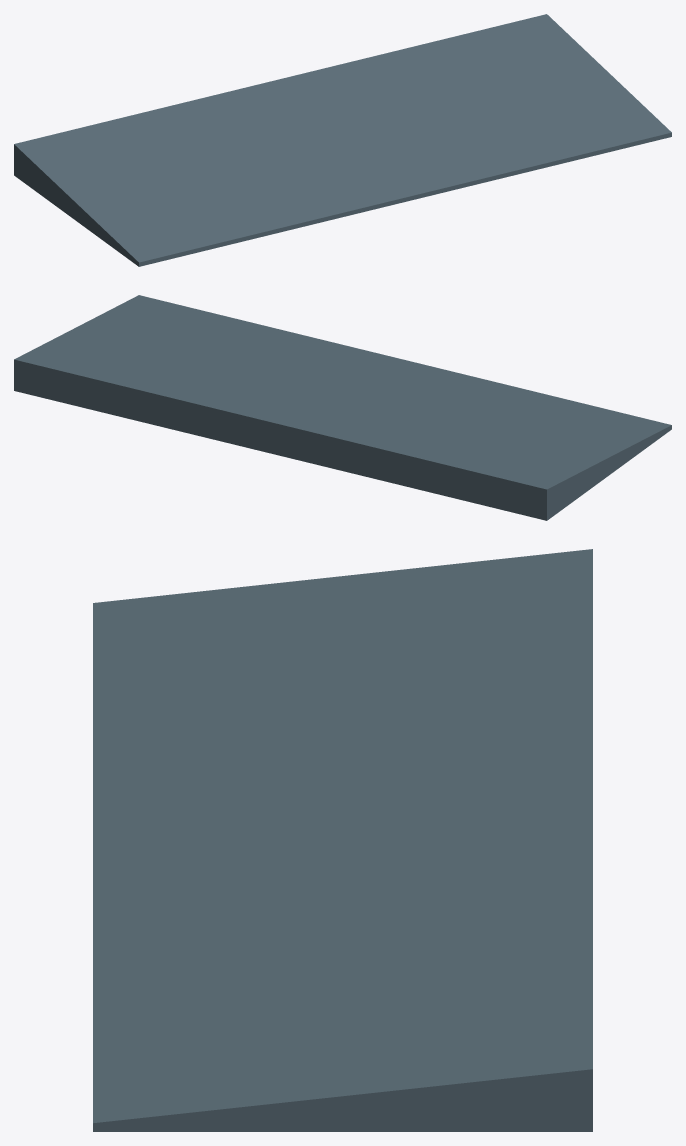
Rendered from survey-ramp.glb.
3 views of the same model, one above another, from view 1: azimuth 30°, elevation 25°; view 2: azimuth 150°, elevation 25°; view 3: azimuth 270°, elevation 25° (orthographic). The views are drawn at different scales.
Visible parts, largest first — view 1: survey-ramp; view 2: survey-ramp; view 3: survey-ramp.
Part boxes in pixels (bbox=[...]): survey-ramp: bbox=[14, 14, 671, 266]; survey-ramp: bbox=[14, 295, 671, 520]; survey-ramp: bbox=[93, 549, 592, 1131].
Bounding box in the file's own units: 3.2 × 0.18 × 1.3.
Materials: 1 (1 with a texture image).
